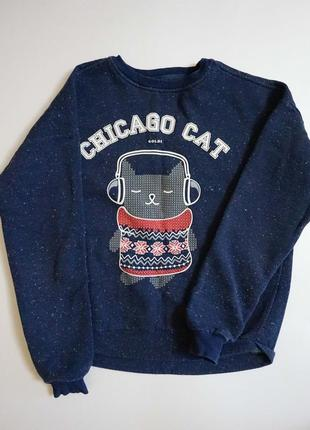cat: (107, 156, 200, 220)
